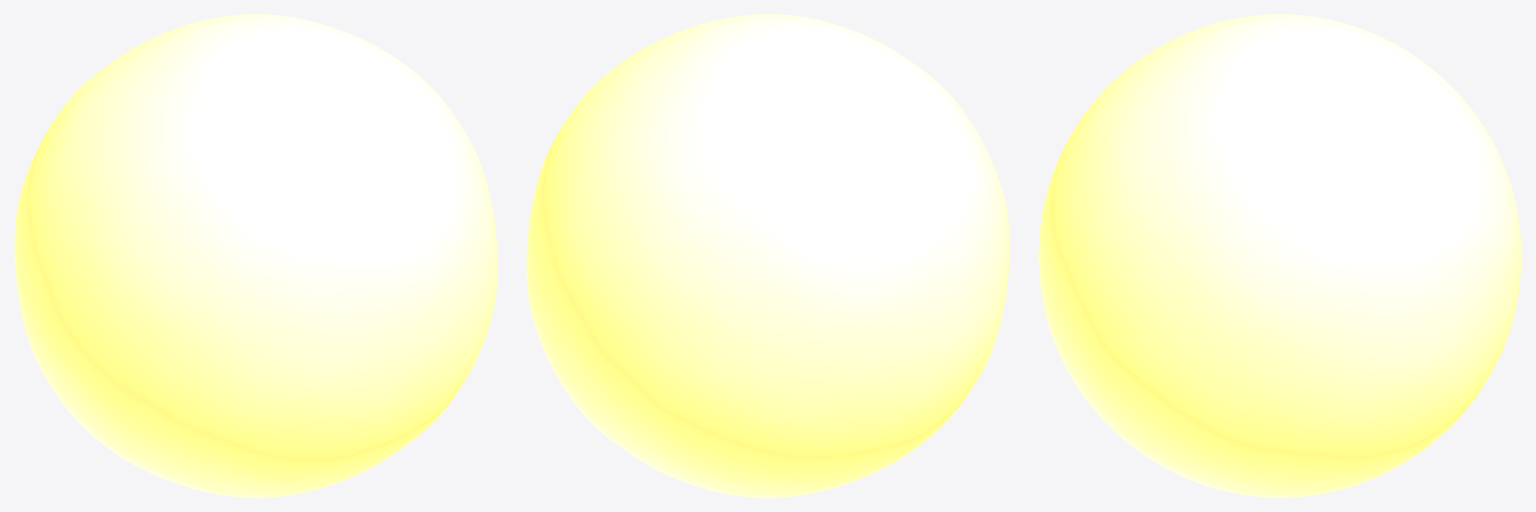
File: sun.glb
The picture shows the model from 3 angles, left to right: view 1: azimuth 30°, elevation 25°; view 2: azimuth 150°, elevation 25°; view 3: azimuth 270°, elevation 25°; orthographic projection.
Parts seen in each view (by area): view 1: Icosphere; view 2: Icosphere; view 3: Icosphere.
Part boxes in pixels (bbox=[...]): Icosphere: bbox=[14, 14, 497, 497]; Icosphere: bbox=[526, 14, 1009, 497]; Icosphere: bbox=[1038, 14, 1521, 497].
Size of the model in its own units: 1.85 by 1.86 by 1.85.
